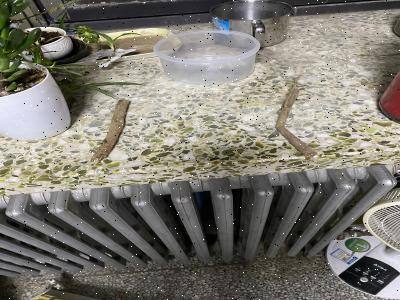Root: (275, 75, 317, 157), (90, 100, 131, 162)
